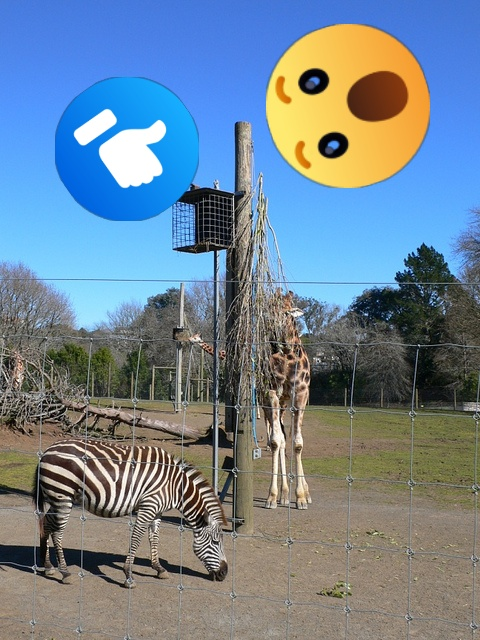like: (55, 77, 199, 221)
wow: (266, 24, 430, 188)
